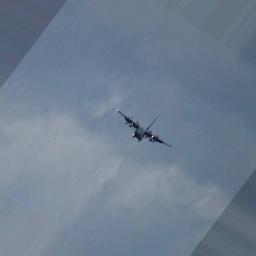Airplane: (116, 107, 173, 148)
